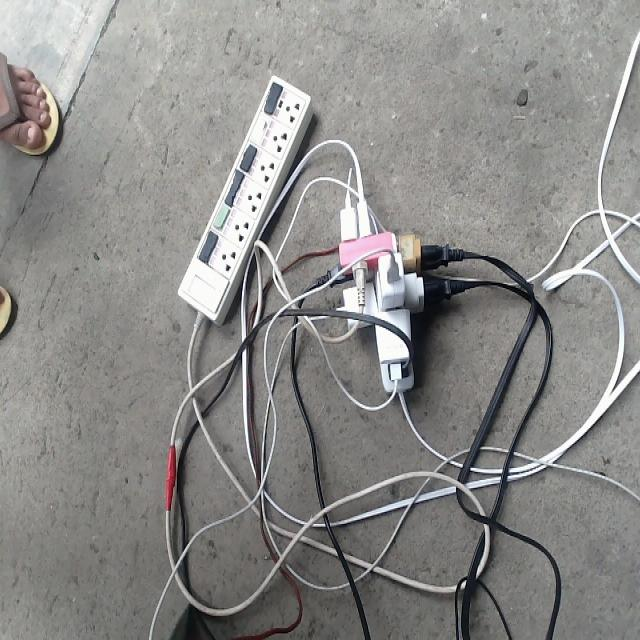-: (316, 182, 469, 394)
